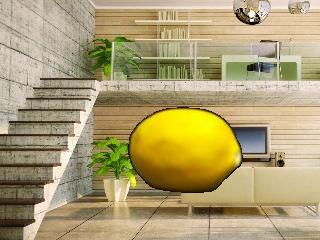lemon: (131, 109, 242, 192)
